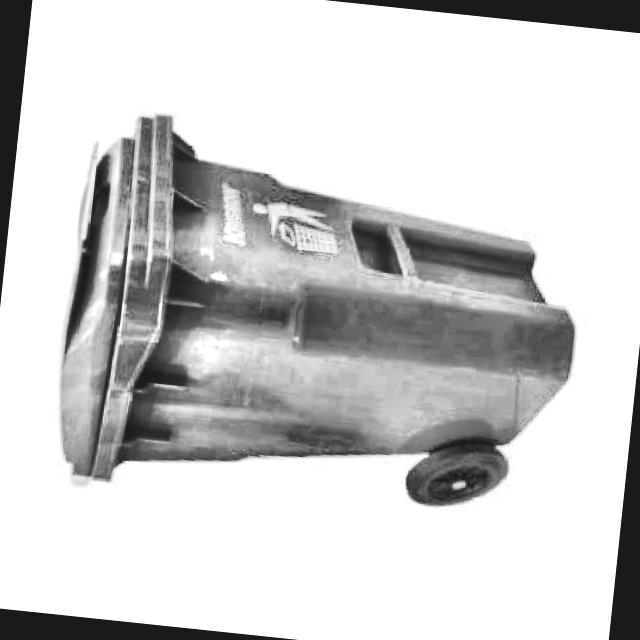Dustbin: (29, 96, 622, 550)
